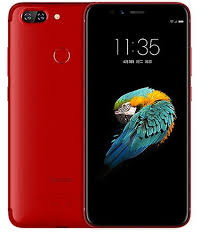lenovo: (81, 1, 193, 233)
